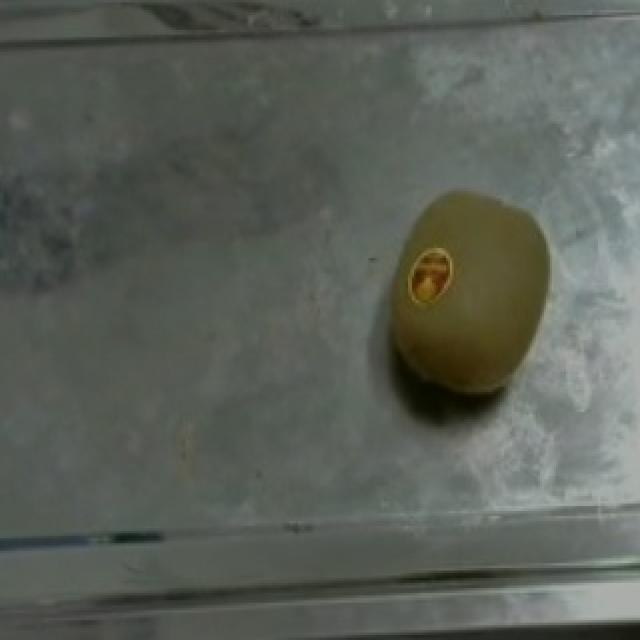Fruit: (376, 181, 562, 412)
